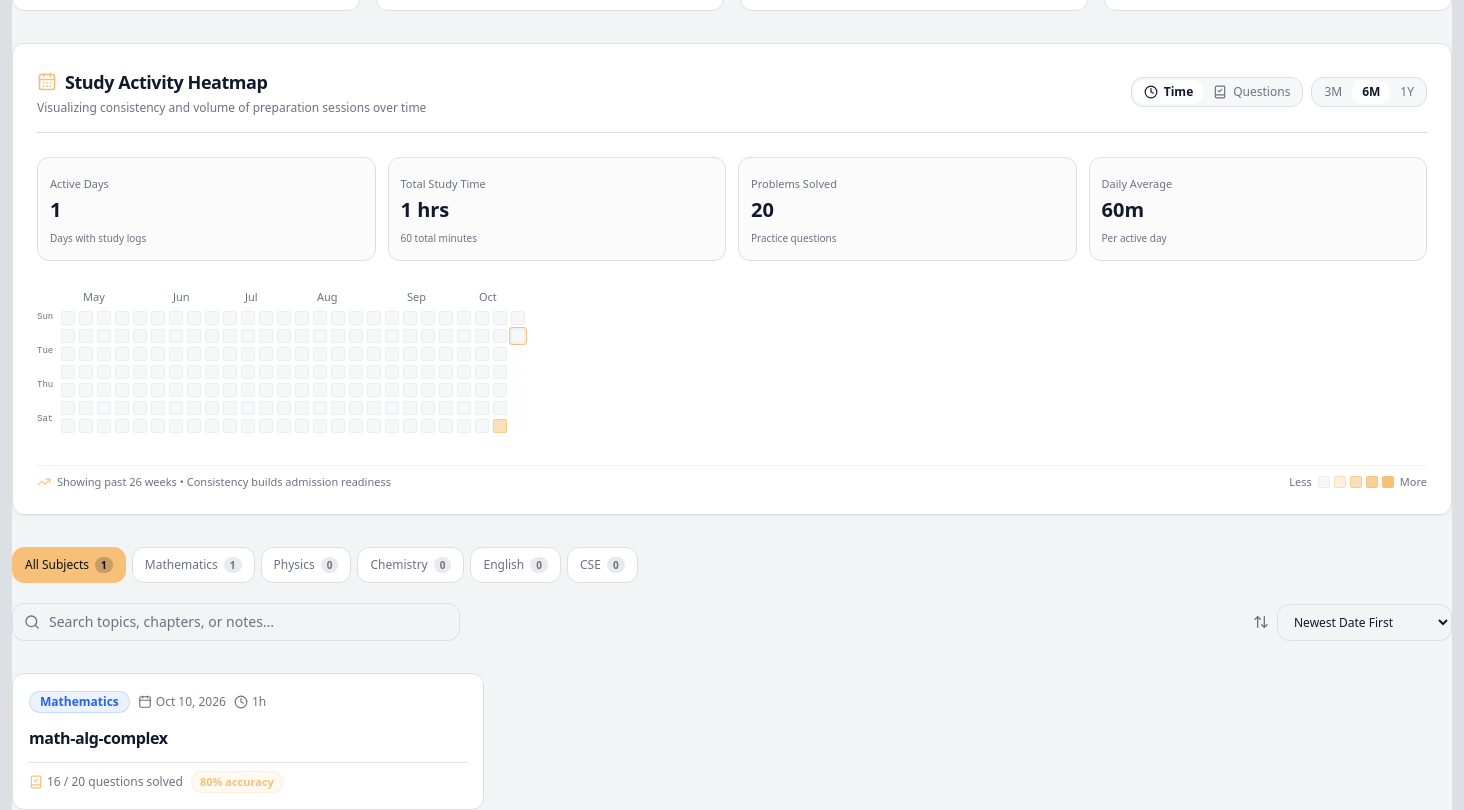
Scenario: StudyLogPage › shows empty filter state and resets filters on button click
(page scrolled)
Step 1. Type "NonexistentKeywordXYZ" into the field with placeholder "Search topics, chapters, or notes..." → (236, 622), box x1=12 y1=603 x2=460 y2=641
(page scrolled)
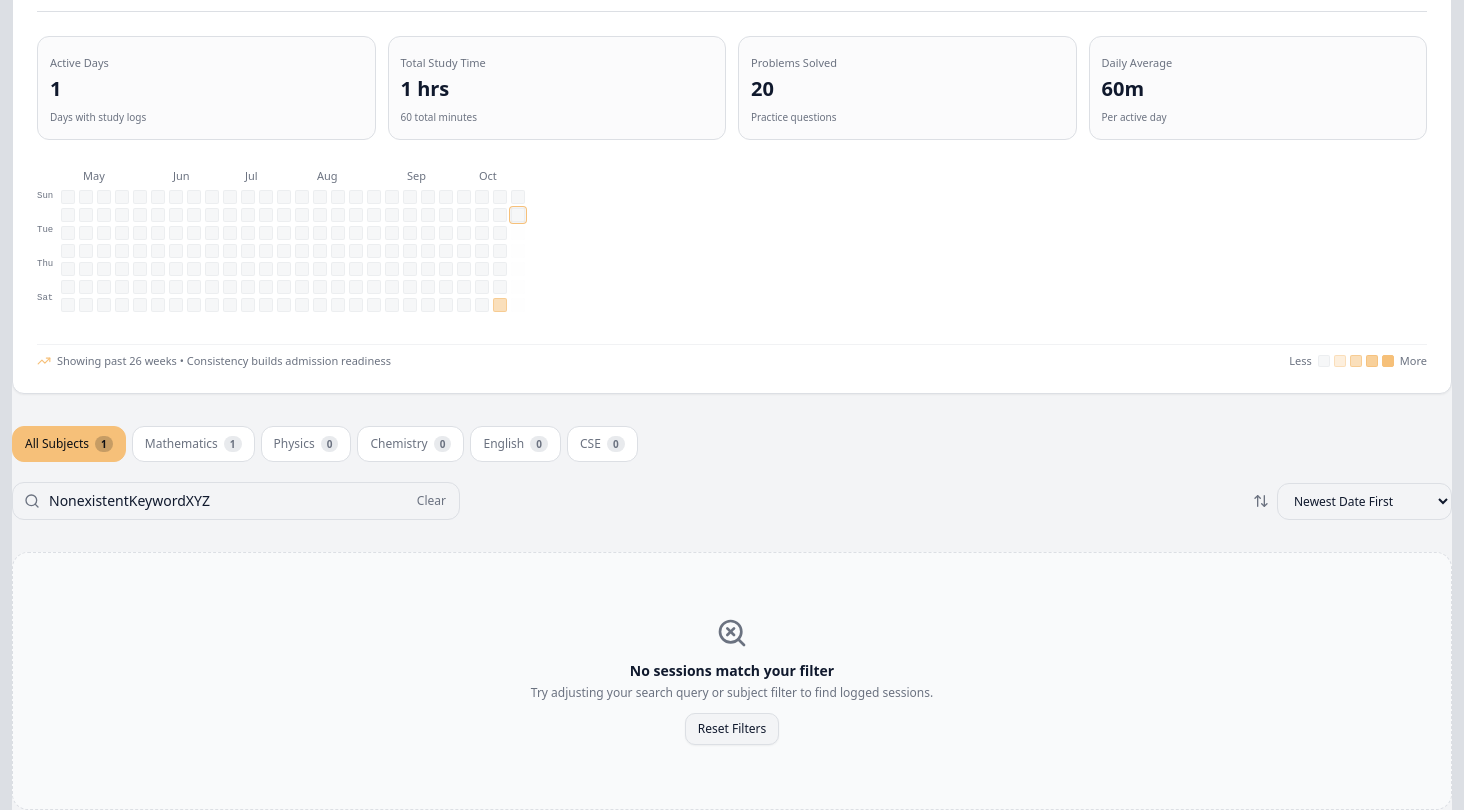
Expected: the heading "No sessions match your filter" is shown, x1=630 y1=661 x2=834 y2=680
Step 2. Click the button "Reset Filters" → (732, 729), box x1=685 y1=713 x2=779 y2=745
(page scrolled)
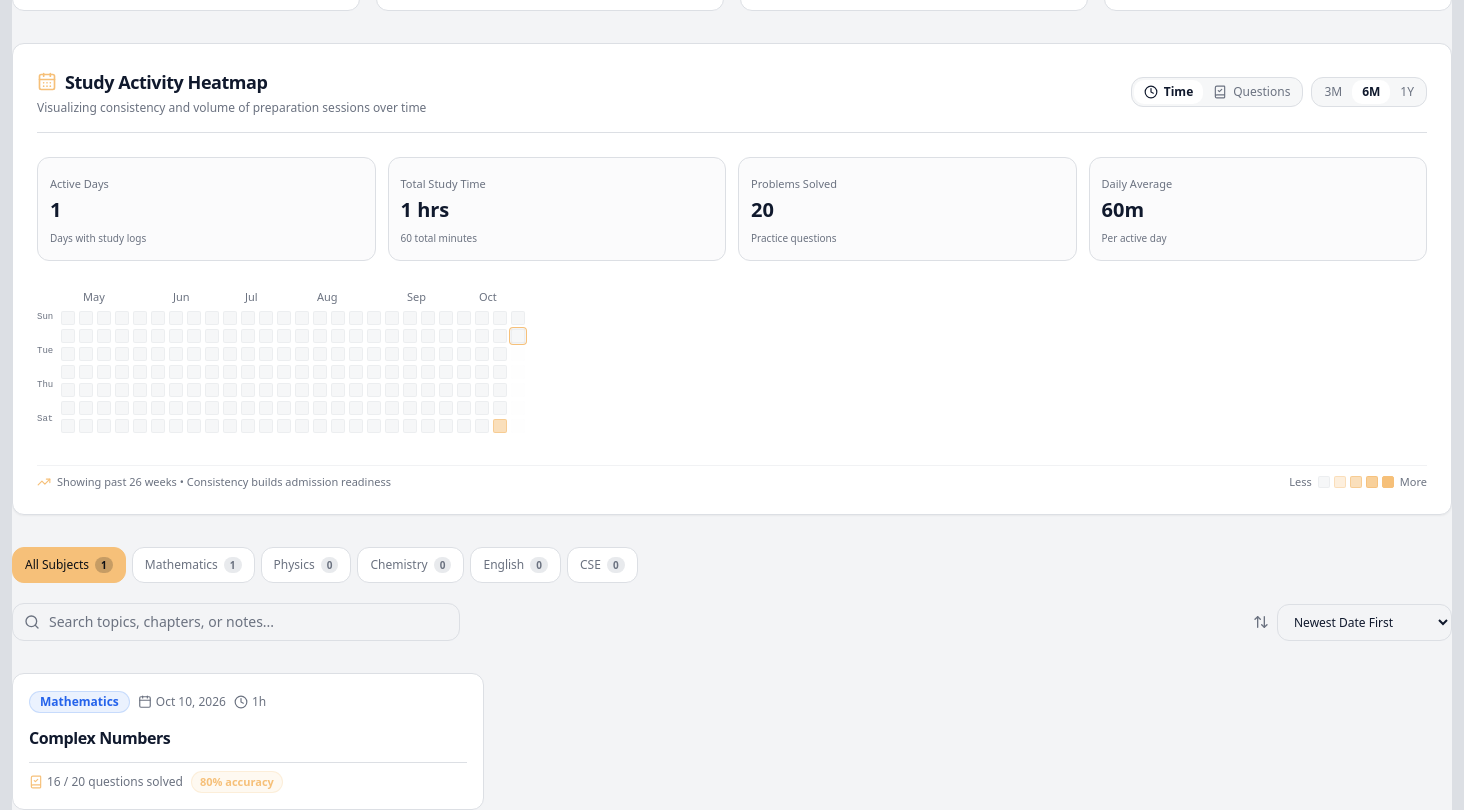
Expected: the heading "Complex Numbers" is shown, x1=29 y1=727 x2=170 y2=749
